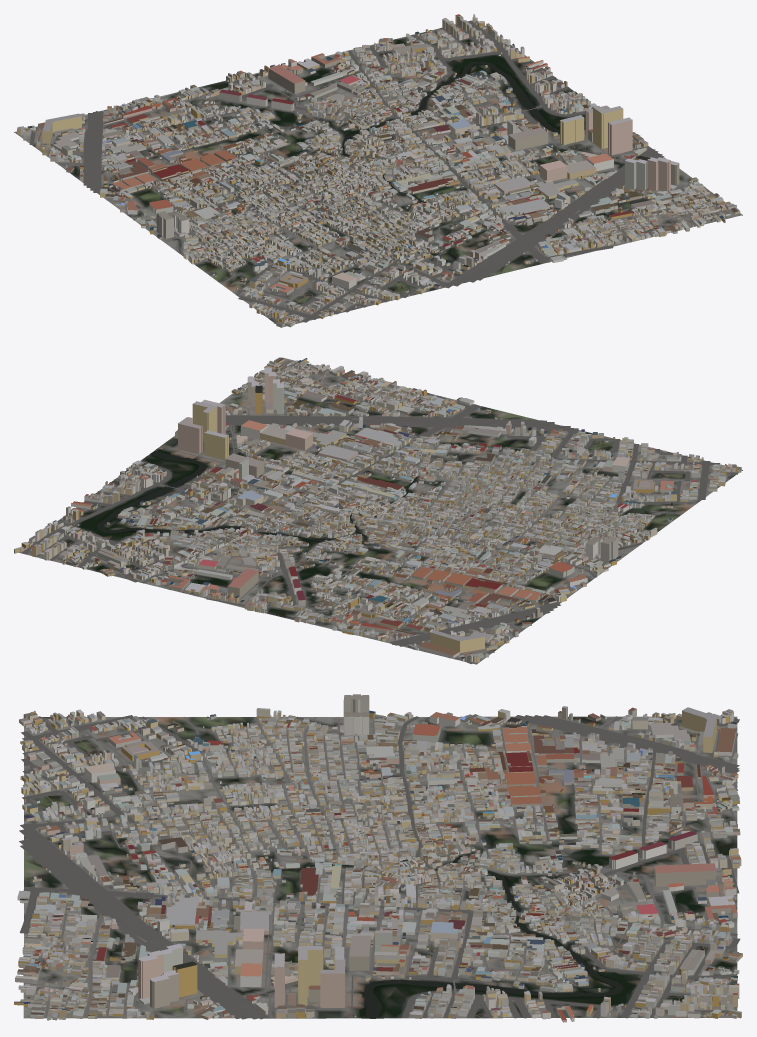
The picture shows the model from 3 angles, top to bottom: view 1: azimuth 30°, elevation 25°; view 2: azimuth 150°, elevation 25°; view 3: azimuth 270°, elevation 25°; orthographic projection. The views are drawn at different scales.
Parts seen in each view (by area): view 1: buildings, ground, roads, water; view 2: buildings, ground, roads, water; view 3: buildings, ground, roads, water.
Boxes of the visible parts, x1=… form: buildings: x1=17, y1=14, x2=740, y2=327; ground: x1=14, y1=20, x2=742, y2=327; roads: x1=16, y1=20, x2=730, y2=323; water: x1=328, y1=61, x2=585, y2=203; buildings: x1=14, y1=357, x2=741, y2=662; ground: x1=19, y1=357, x2=742, y2=664; roads: x1=21, y1=366, x2=737, y2=663; water: x1=97, y1=451, x2=418, y2=541; buildings: x1=14, y1=694, x2=742, y2=1022; ground: x1=23, y1=716, x2=737, y2=1018; roads: x1=19, y1=715, x2=740, y2=1019; water: x1=271, y1=855, x2=623, y2=1018.
Bounding box in the file's own units: 1429 × 106 × 1431.
